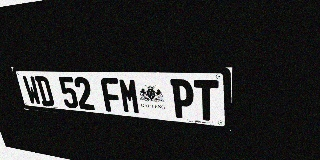2: (73, 77, 95, 110)
5: (58, 77, 80, 109)
D: (34, 76, 55, 107)
F: (100, 77, 123, 113)
M: (118, 78, 141, 114)
P: (170, 79, 194, 119)
T: (194, 80, 218, 121)
W: (22, 76, 42, 105)
